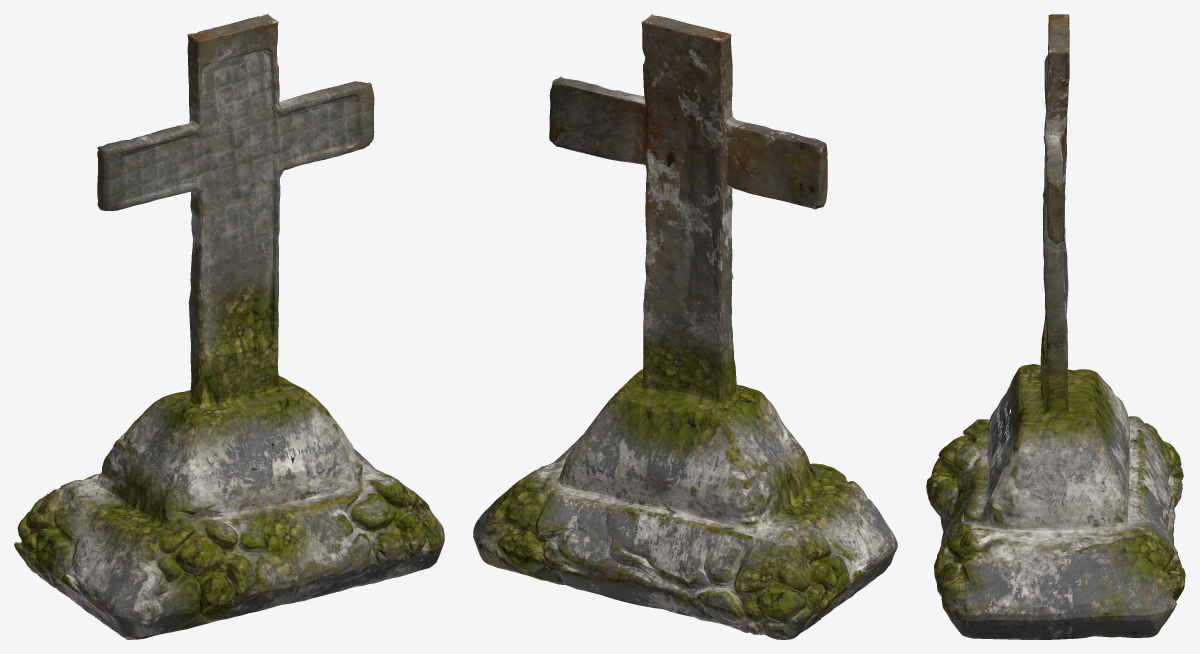
Rendered from graveee.fbx.
3 views of the same model, side by side, from view 1: azimuth 30°, elevation 25°; view 2: azimuth 150°, elevation 25°; view 3: azimuth 270°, elevation 25° (orthographic).
Parts seen in each view (by area): view 1: polySurface1; view 2: polySurface1; view 3: polySurface1.
Boxes of the visible parts, bbox=[...] form: polySurface1: bbox=[14, 14, 444, 639]; polySurface1: bbox=[473, 14, 897, 639]; polySurface1: bbox=[926, 14, 1185, 639].
Bounding box in the file's own units: 97.98 × 148 × 65.23.
